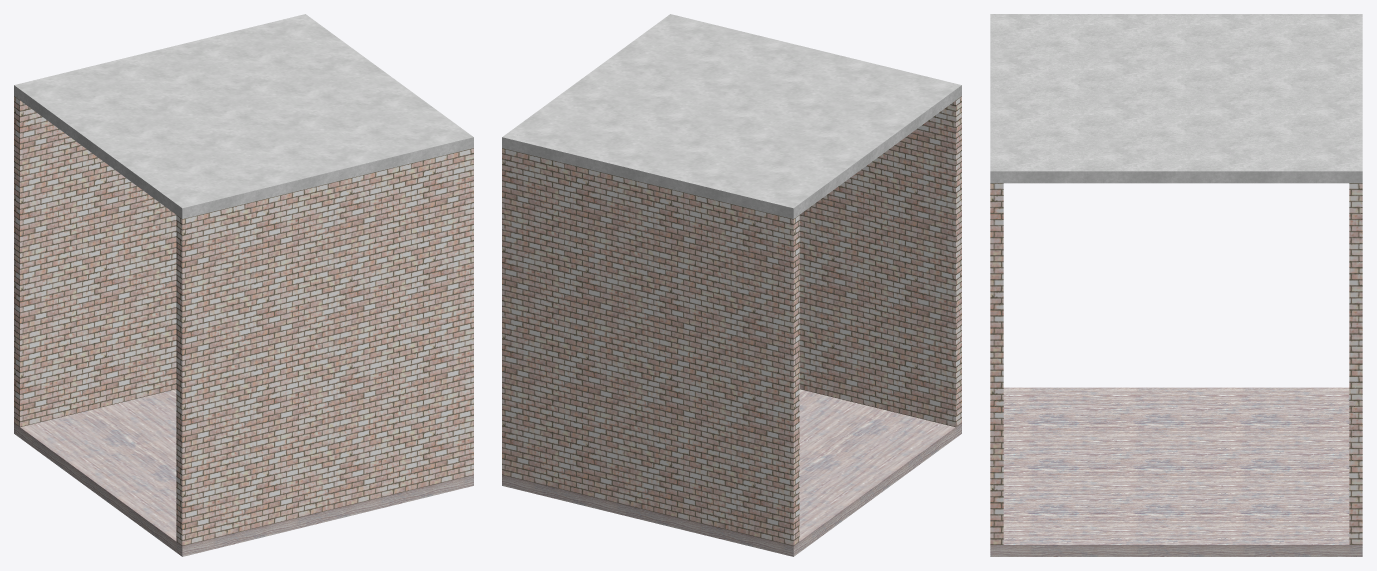
Rendered from OLD_Hallway.obj.
3 views of the same model, side by side, from view 1: azimuth 30°, elevation 25°; view 2: azimuth 150°, elevation 25°; view 3: azimuth 270°, elevation 25° (orthographic). The views are drawn at different scales.
Parts seen in each view (by area): view 1: Union1, Ceiling1, Floor1; view 2: Union1, Ceiling1, Floor1; view 3: Ceiling1, Floor1, Union1.
Boxes of the visible parts, x1,y1,x2,y2 form: Union1: [14, 96, 473, 545]; Ceiling1: [14, 14, 473, 218]; Floor1: [14, 389, 473, 556]; Union1: [502, 96, 961, 545]; Ceiling1: [502, 14, 961, 218]; Floor1: [502, 389, 961, 556]; Ceiling1: [990, 14, 1362, 183]; Floor1: [990, 387, 1362, 556]; Union1: [990, 183, 1362, 544].
Size of the model in its own units: 28 by 32 by 28.
